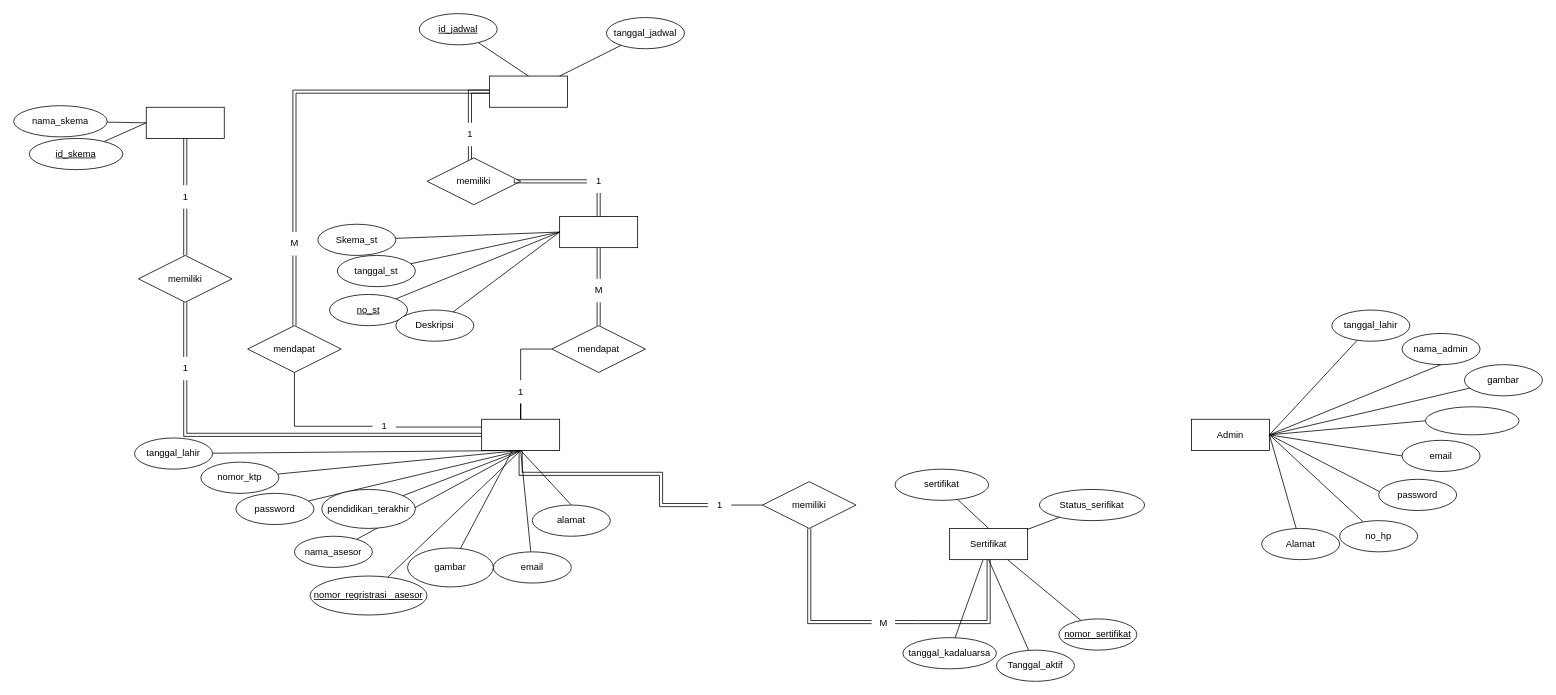
The diagram is 1556 pixels wide and 695 high, and some of its shapes have lost their labels. The box of each missing label's shape, as (x1, y1, x2, y2) in pixels:
Asesor: (481, 418, 560, 450)
jadwal: (489, 75, 567, 107)
no_induk_pegawai: (1425, 406, 1519, 435)
skema: (145, 106, 224, 138)
Surat_Tugas: (559, 216, 638, 248)
